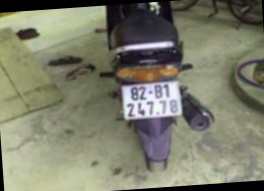Bien-so: (122, 77, 183, 118)
